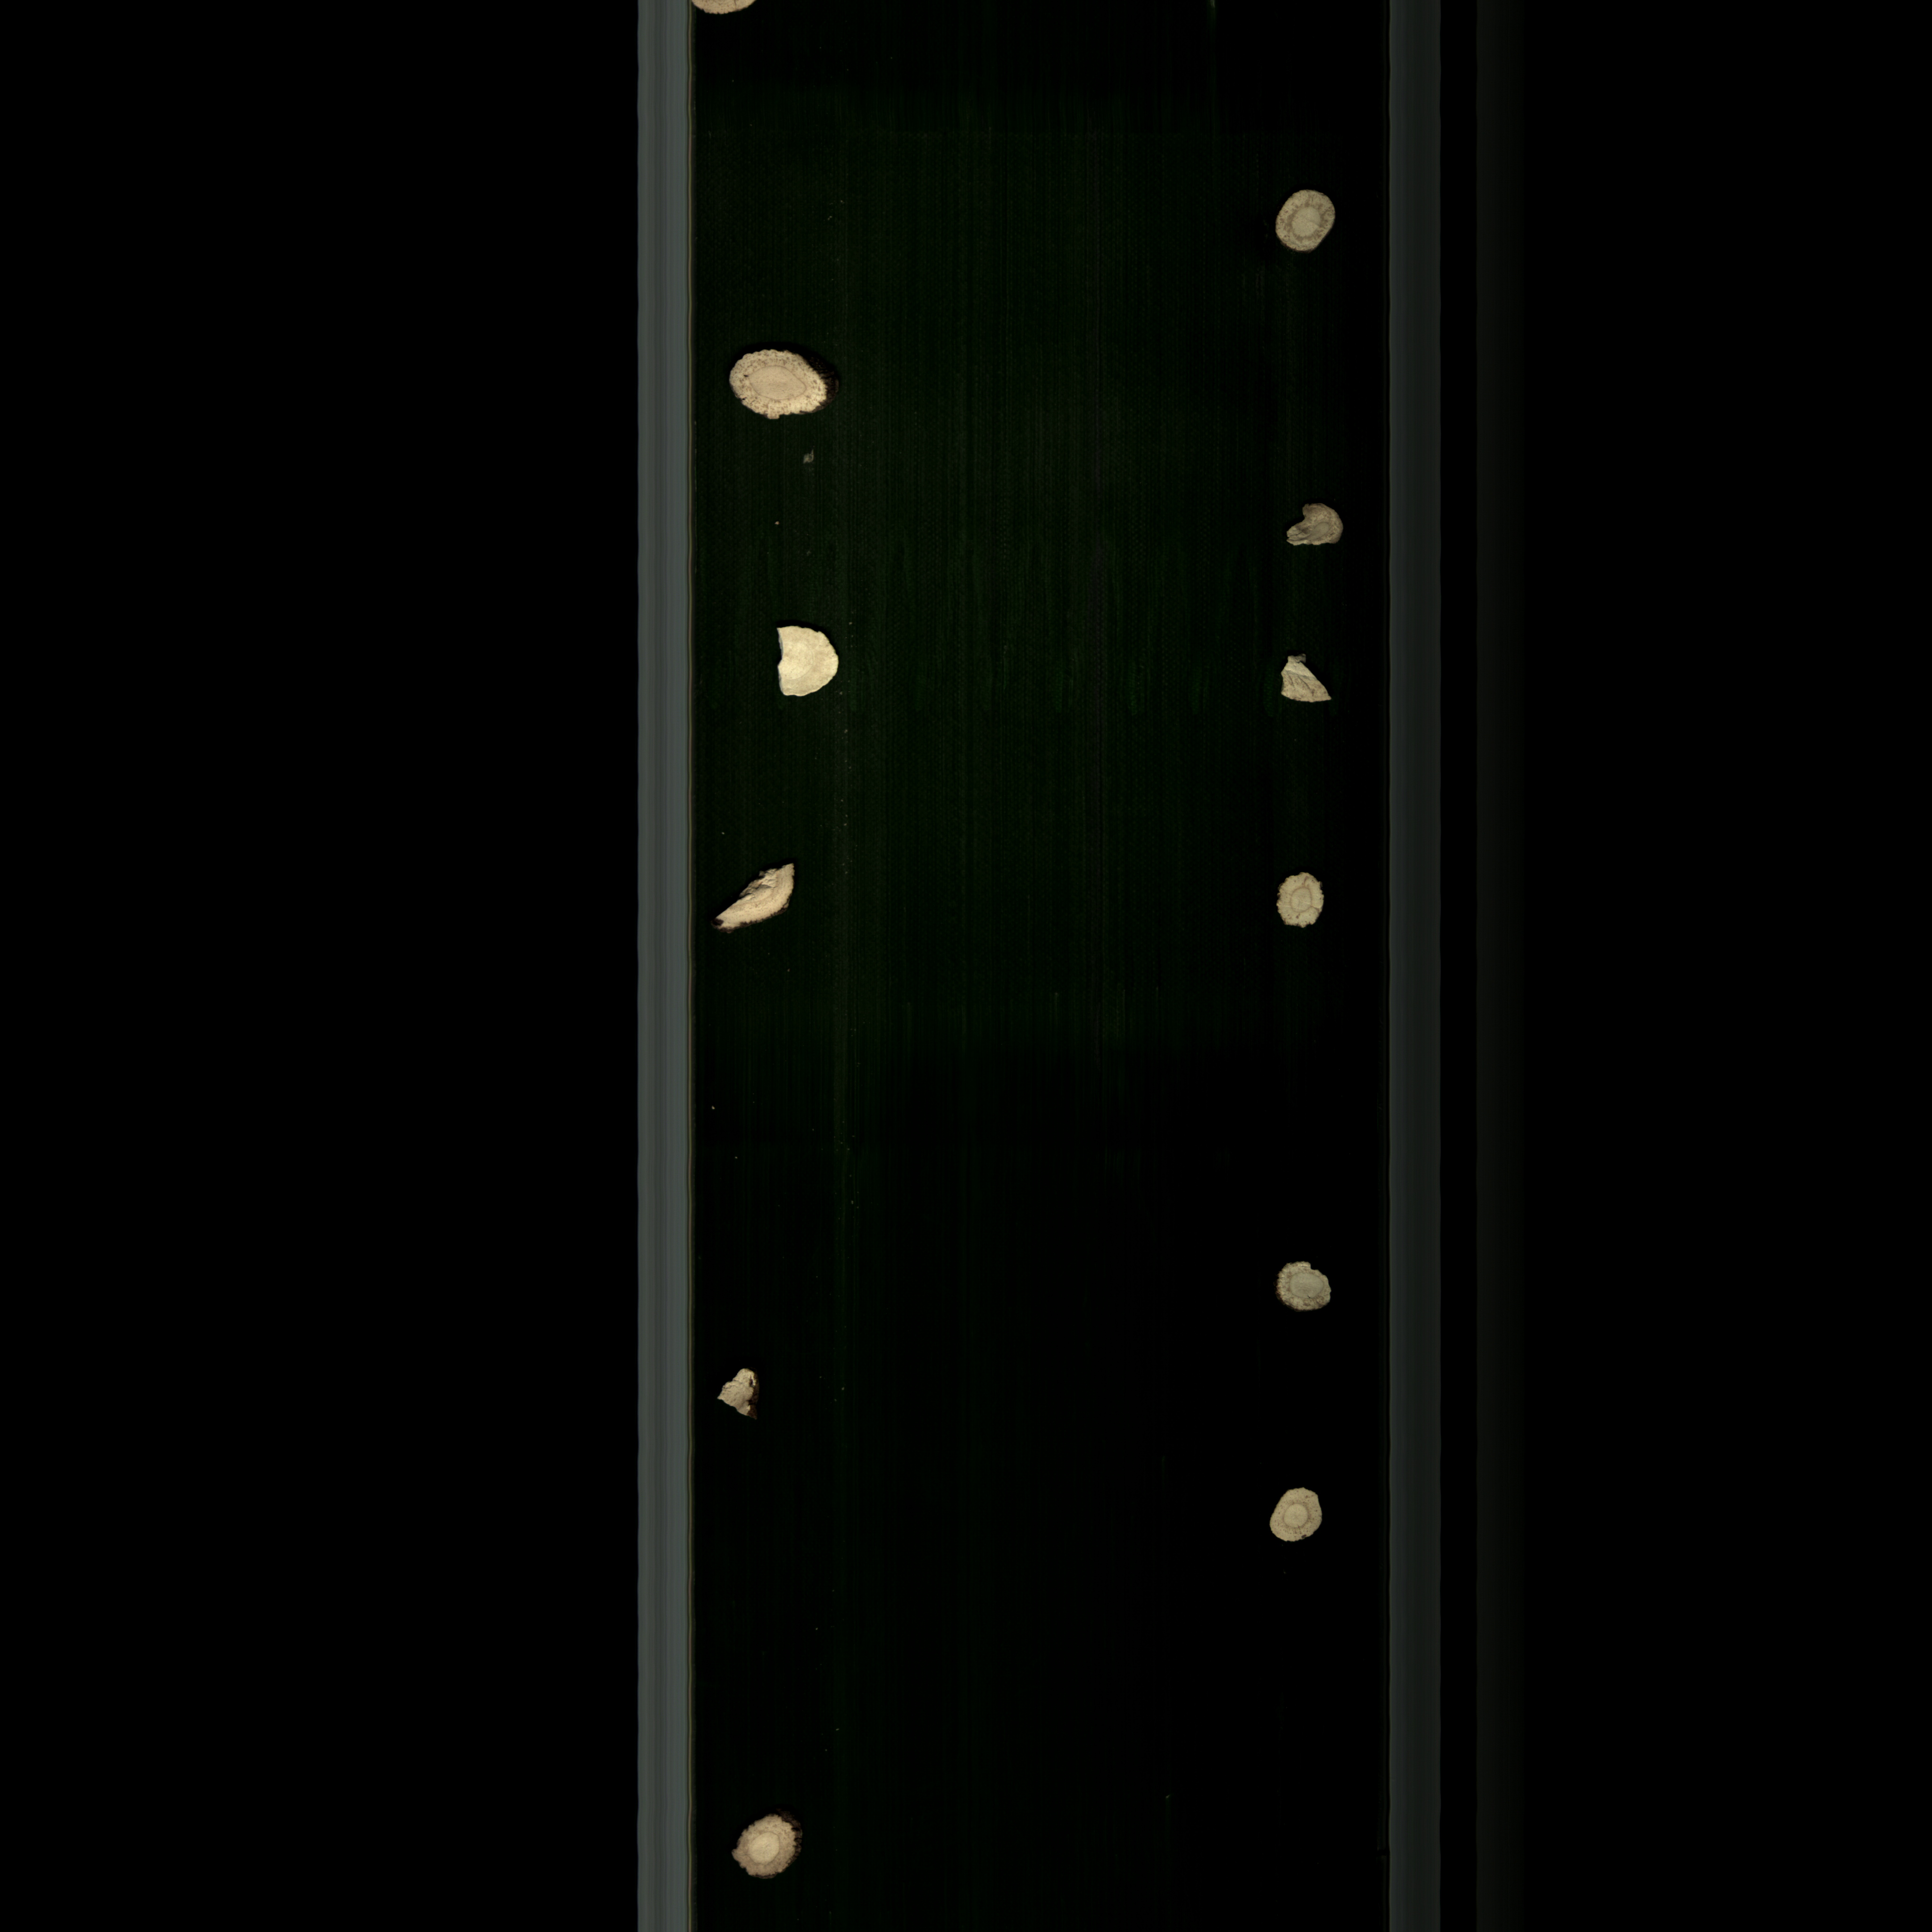debris: (706, 849, 814, 943), (764, 614, 851, 709), (1277, 495, 1353, 556)
distortion: (722, 347, 839, 421)
dreg: (1272, 646, 1346, 715), (713, 1361, 761, 1426)
moldy: (1274, 1254, 1346, 1320)
